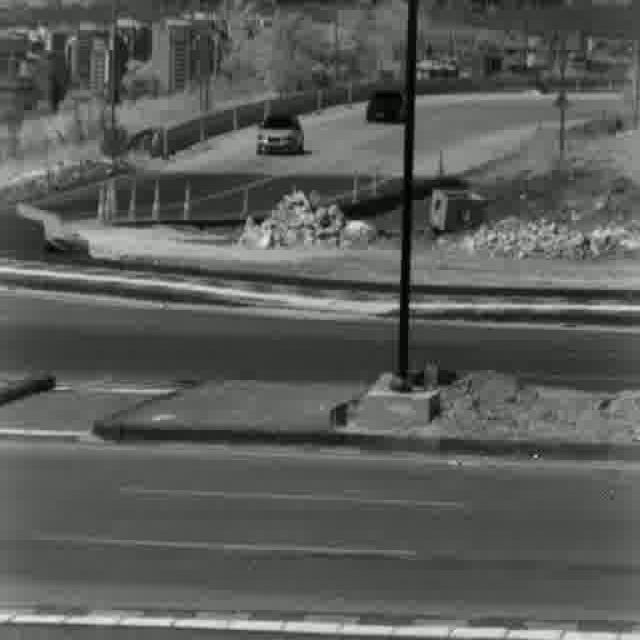Car: (256, 112, 305, 156), (366, 90, 406, 121)
